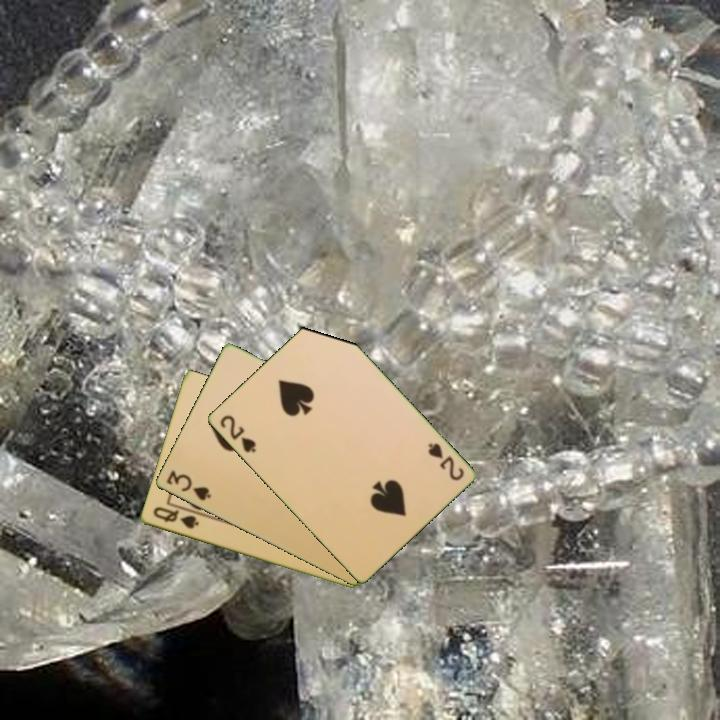2s: (216, 411, 258, 456), (424, 439, 466, 484)
3s: (162, 466, 214, 504)
Qs: (149, 503, 202, 532)
